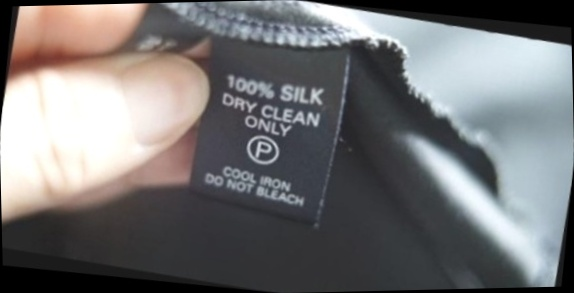dry_clean_any_solvent_except_trichloroethylene: (241, 127, 287, 171)
